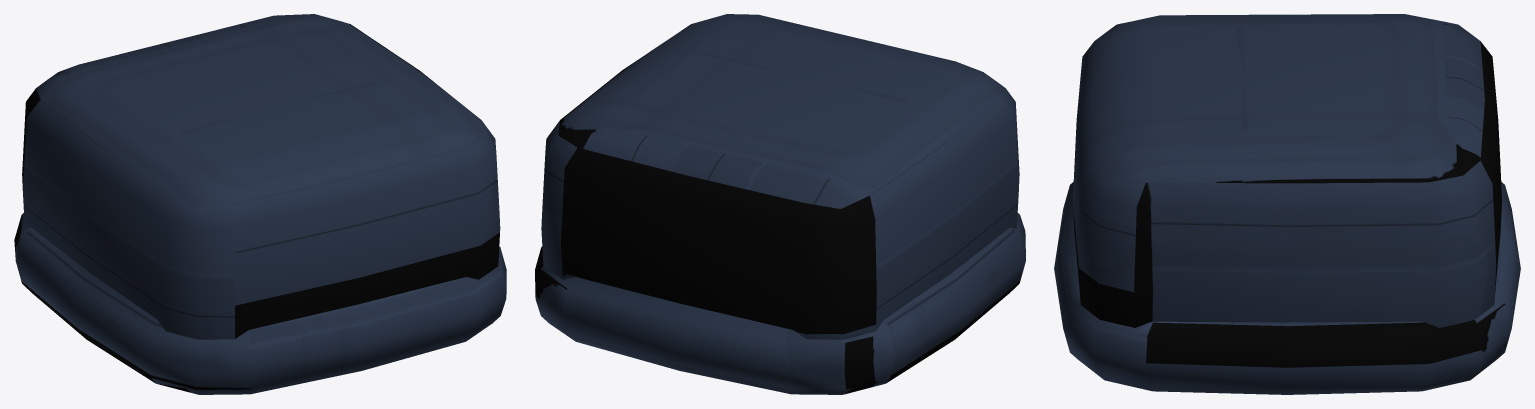
File: Albatros_PunoIzq.fbx
The picture shows the model from 3 angles, left to right: view 1: azimuth 30°, elevation 25°; view 2: azimuth 150°, elevation 25°; view 3: azimuth 270°, elevation 25°; orthographic projection. The views are drawn at different scales.
Parts seen in each view (by area): view 1: Albatros_PunoIzq; view 2: Albatros_PunoIzq; view 3: Albatros_PunoIzq.
Boxes of the visible parts, bbox=[...] form: Albatros_PunoIzq: bbox=[14, 14, 506, 394]; Albatros_PunoIzq: bbox=[535, 14, 1025, 394]; Albatros_PunoIzq: bbox=[1054, 14, 1520, 394].
Bounding box in the file's own units: 1.77 × 1.01 × 1.77.
